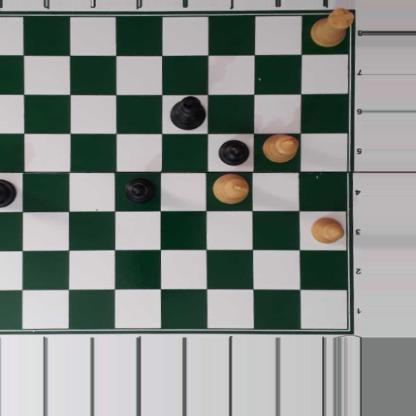black-king: (169, 95, 207, 130)
black-pawn: (124, 178, 157, 205), (218, 138, 249, 166)
black-rook: (0, 177, 16, 208)
white-bishop: (261, 133, 299, 164)
white-king: (213, 172, 248, 204)
white-pawn: (309, 215, 344, 244)
white-rook: (309, 6, 356, 46)
